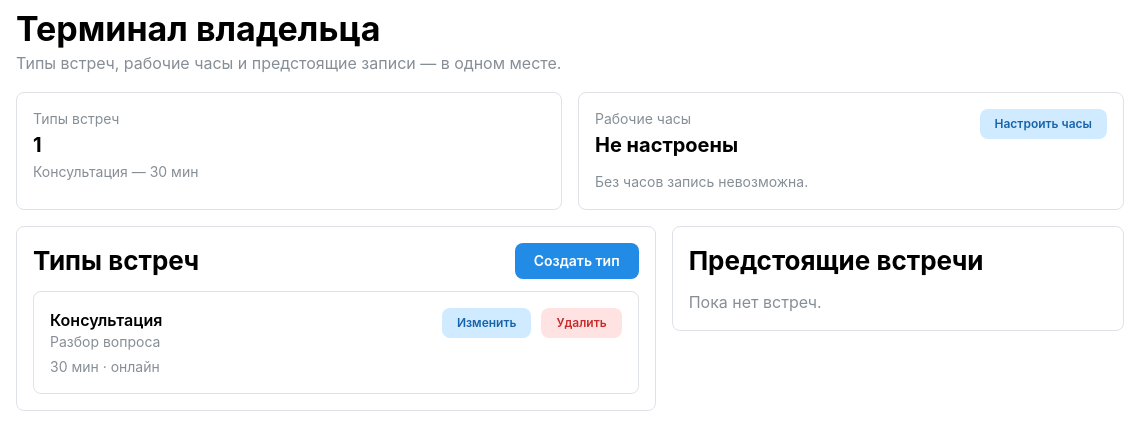
Scenario: Поверхность владельца › удаляет тип события
Step 1. Click the button "Удалить" → point(582, 323), box [542,308,622,338]
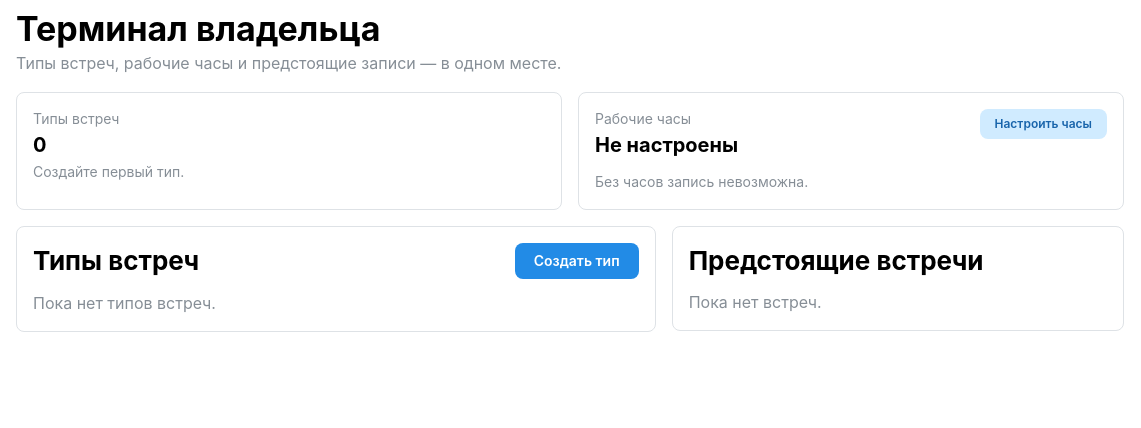
Now the text "Пока нет типов встреч." is shown, box [33,293,216,313]
